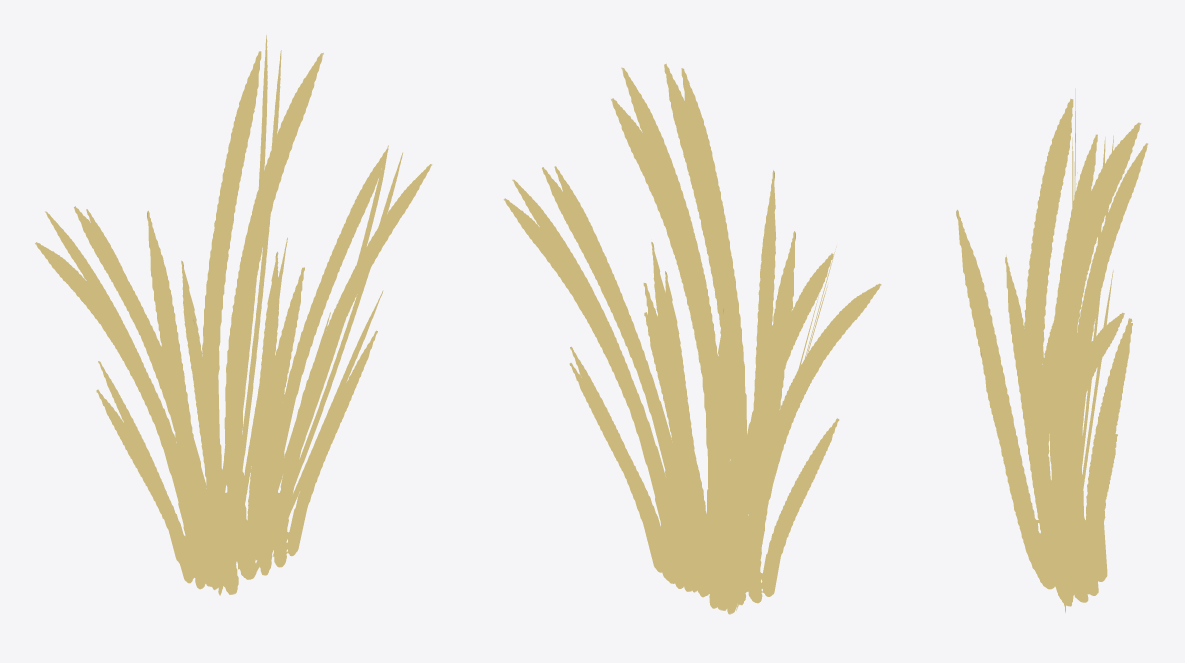
Rendered from Weeds_y.fbx.
The picture shows the model from 3 angles, left to right: view 1: azimuth 30°, elevation 25°; view 2: azimuth 150°, elevation 25°; view 3: azimuth 270°, elevation 25°; orthographic projection.
Parts seen in each view (by area): view 1: polySurface21; view 2: polySurface21; view 3: polySurface21.
Part boxes in pixels (x1=…): polySurface21: x1=35, y1=35, x2=432, y2=595; polySurface21: x1=503, y1=63, x2=881, y2=614; polySurface21: x1=956, y1=88, x2=1148, y2=612.
Size of the model in its own units: 0.5336 by 0.6798 by 0.2554.
